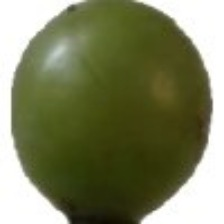grapes: (25, 47, 189, 205)
